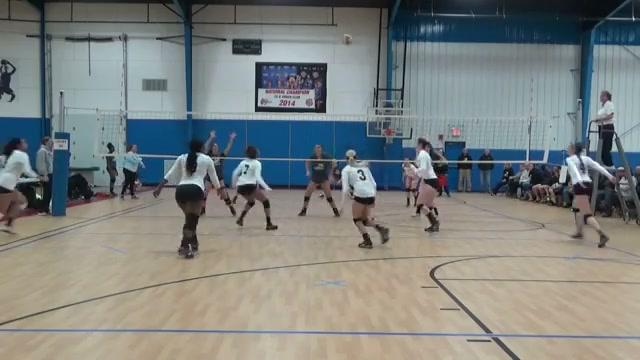ball: (343, 33, 354, 45)
